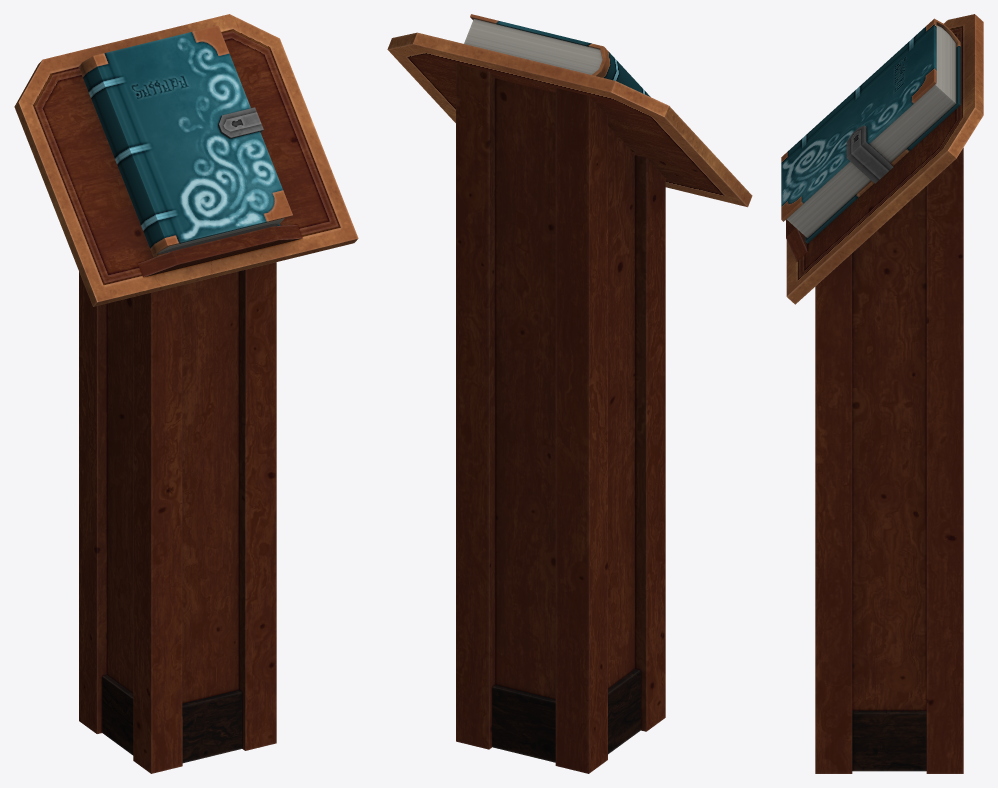
The model's file is DS_WizLab_Clut_BookStand.fbx.
3 renders of one model, left to right at view 1: azimuth 30°, elevation 25°; view 2: azimuth 150°, elevation 25°; view 3: azimuth 270°, elevation 25°, orthographic. The views are drawn at different scales.
Parts seen in each view (by area): view 1: DS_WizLab_Clut_BookStand; view 2: DS_WizLab_Clut_BookStand; view 3: DS_WizLab_Clut_BookStand.
Boxes of the visible parts, left/top/right/bottom form: DS_WizLab_Clut_BookStand: left=14, top=14, right=358, bottom=773; DS_WizLab_Clut_BookStand: left=387, top=14, right=752, bottom=773; DS_WizLab_Clut_BookStand: left=781, top=14, right=983, bottom=773.
Bounding box in the file's own units: 50.04 × 124 × 32.71.
Materials: 1 (1 with a texture image).
